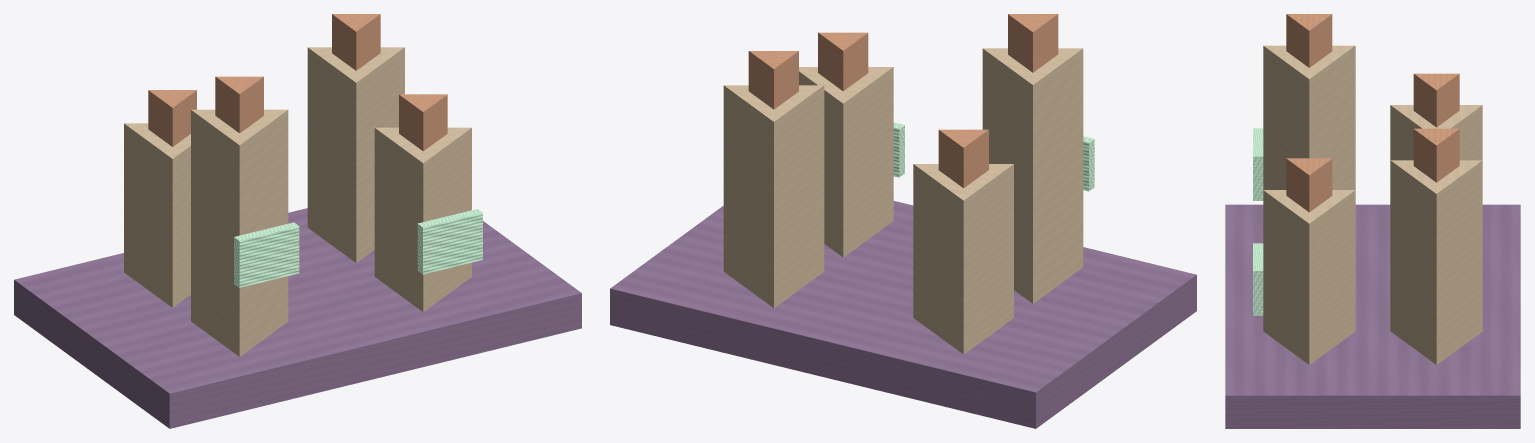
The model's file is atlas100-s081-a04.lod1.glb.
3 views of the same model, side by side, from view 1: azimuth 30°, elevation 25°; view 2: azimuth 150°, elevation 25°; view 3: azimuth 270°, elevation 25° (orthographic). The views are drawn at different scales.
Visible parts, largest first — view 1: atlas100-s081-a04:part-000, atlas100-s081-a04:part-007, atlas100-s081-a04:part-004, atlas100-s081-a04:part-010, atlas100-s081-a04:part-001, atlas100-s081-a04:part-012, atlas100-s081-a04:part-009, atlas100-s081-a04:part-008, atlas100-s081-a04:part-011, atlas100-s081-a04:part-005, atlas100-s081-a04:part-002; view 2: atlas100-s081-a04:part-000, atlas100-s081-a04:part-004, atlas100-s081-a04:part-007, atlas100-s081-a04:part-001, atlas100-s081-a04:part-010, atlas100-s081-a04:part-002, atlas100-s081-a04:part-011, atlas100-s081-a04:part-008, atlas100-s081-a04:part-005, atlas100-s081-a04:part-012, atlas100-s081-a04:part-009; view 3: atlas100-s081-a04:part-000, atlas100-s081-a04:part-004, atlas100-s081-a04:part-010, atlas100-s081-a04:part-007, atlas100-s081-a04:part-001, atlas100-s081-a04:part-005, atlas100-s081-a04:part-011, atlas100-s081-a04:part-002, atlas100-s081-a04:part-008, atlas100-s081-a04:part-009, atlas100-s081-a04:part-012.
Part boxes in pixels (box(x1,y1,x2,y2)): atlas100-s081-a04:part-000: box(14, 208, 581, 428); atlas100-s081-a04:part-007: box(191, 109, 288, 356); atlas100-s081-a04:part-004: box(307, 47, 404, 262); atlas100-s081-a04:part-010: box(374, 127, 471, 312); atlas100-s081-a04:part-001: box(124, 123, 190, 307); atlas100-s081-a04:part-012: box(417, 209, 482, 274); atlas100-s081-a04:part-009: box(234, 222, 299, 287); atlas100-s081-a04:part-008: box(215, 76, 263, 133); atlas100-s081-a04:part-011: box(399, 94, 447, 151); atlas100-s081-a04:part-005: box(332, 14, 380, 70); atlas100-s081-a04:part-002: box(148, 90, 196, 146); atlas100-s081-a04:part-000: box(610, 201, 1196, 428); atlas100-s081-a04:part-004: box(723, 85, 824, 307); atlas100-s081-a04:part-007: box(982, 48, 1083, 303); atlas100-s081-a04:part-001: box(913, 164, 1013, 354); atlas100-s081-a04:part-010: box(799, 67, 893, 257); atlas100-s081-a04:part-002: box(938, 129, 988, 188); atlas100-s081-a04:part-011: box(818, 32, 868, 91); atlas100-s081-a04:part-008: box(1008, 14, 1058, 72); atlas100-s081-a04:part-005: box(748, 51, 798, 109); atlas100-s081-a04:part-012: box(893, 122, 904, 177); atlas100-s081-a04:part-009: box(1083, 136, 1094, 191); atlas100-s081-a04:part-000: box(1225, 204, 1520, 428); atlas100-s081-a04:part-004: box(1390, 160, 1482, 364); atlas100-s081-a04:part-010: box(1263, 190, 1355, 364); atlas100-s081-a04:part-007: box(1263, 45, 1355, 189); atlas100-s081-a04:part-001: box(1390, 105, 1482, 160); atlas100-s081-a04:part-005: box(1413, 128, 1459, 182); atlas100-s081-a04:part-011: box(1286, 158, 1332, 212); atlas100-s081-a04:part-002: box(1413, 73, 1459, 127); atlas100-s081-a04:part-008: box(1286, 14, 1332, 67); atlas100-s081-a04:part-009: box(1253, 128, 1263, 200); atlas100-s081-a04:part-012: box(1253, 243, 1263, 315).
Bounding box in the file's own units: 1.18 × 0.7804 × 0.7697.
Materials: 4 (4 with a texture image).
